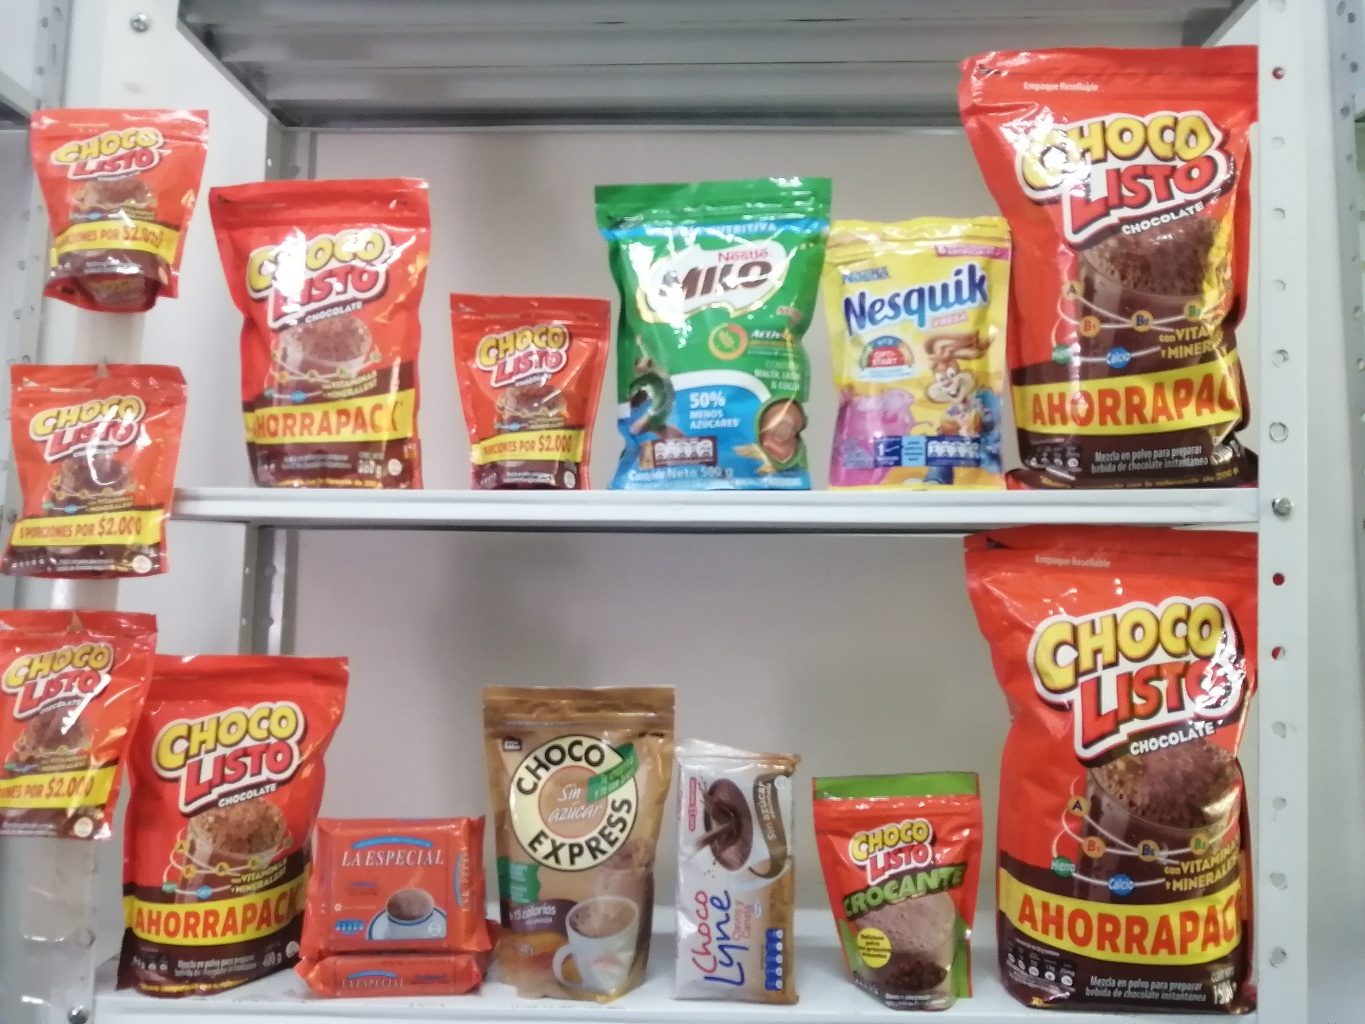COL0170102DYP10000: (805, 767, 975, 1009)
COL0170103DYP1,500: (975, 35, 1263, 483)
COL0170103DYP10000: (451, 281, 605, 479)
COL0170103DYP36000: (210, 162, 447, 490)
COL0170103DYP40000: (127, 637, 343, 1011)
COL0170205DYP50000: (587, 163, 823, 479)
COL0170305DYP20000: (823, 191, 1011, 485)
